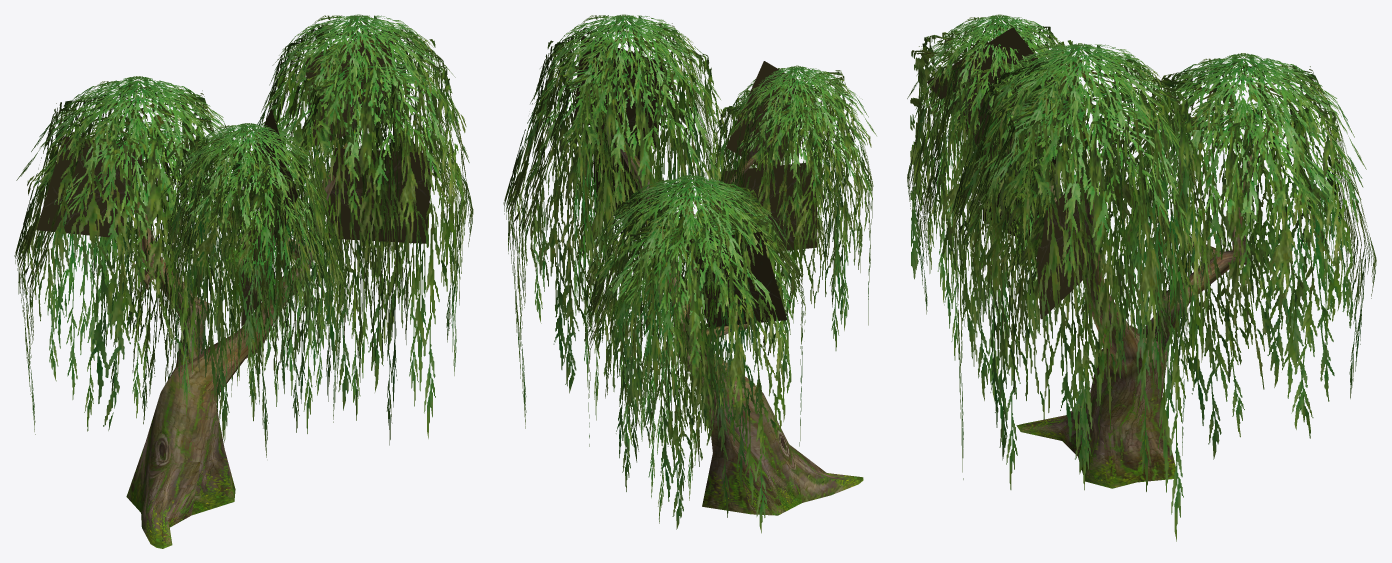
File: Dingqingchuan_wujian_03.FBX
3 renders of one model, left to right at view 1: azimuth 30°, elevation 25°; view 2: azimuth 150°, elevation 25°; view 3: azimuth 270°, elevation 25°, orthographic. The views are drawn at different scales.
Parts seen in each view (by area): view 1: Cylinder30, plant_tre03, Plane02; view 2: Cylinder30, Plane02, plant_tre03; view 3: Cylinder30, plant_tre03, Plane02.
Boxes of the visible parts, left/top/right/bottom form: Cylinder30: left=14, top=14, right=473, bottom=457; plant_tre03: left=126, top=127, right=359, bottom=548; Plane02: left=36, top=28, right=433, bottom=326; Cylinder30: left=503, top=14, right=876, bottom=533; Plane02: left=574, top=36, right=817, bottom=327; plant_tre03: left=594, top=98, right=863, bottom=515; Cylinder30: left=907, top=14, right=1376, bottom=541; plant_tre03: left=1016, top=127, right=1266, bottom=488; Plane02: left=927, top=27, right=1092, bottom=319.
Size of the model in its own units: 4.92 by 6 by 5.12.
